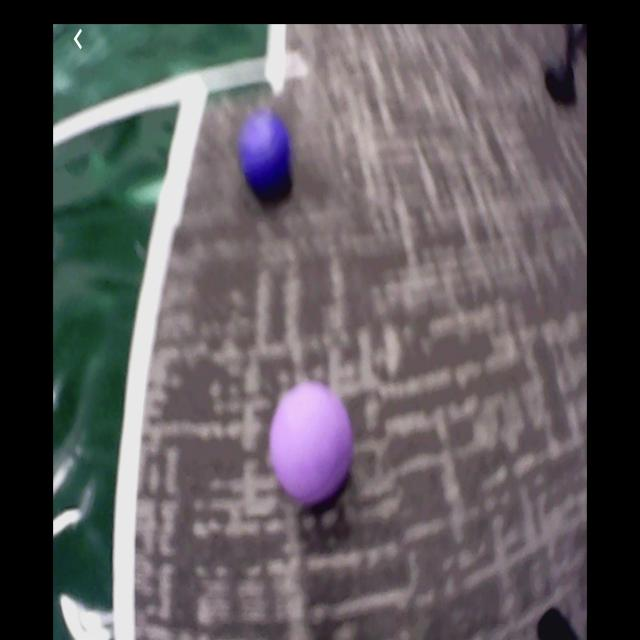ball: (273, 385, 352, 506), (241, 114, 293, 196)
